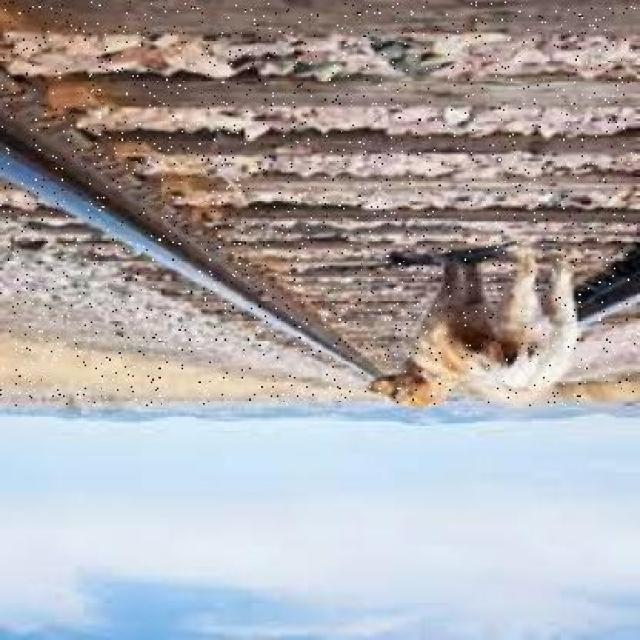danger: (356, 248, 618, 403)
rail: (0, 1, 635, 406)
